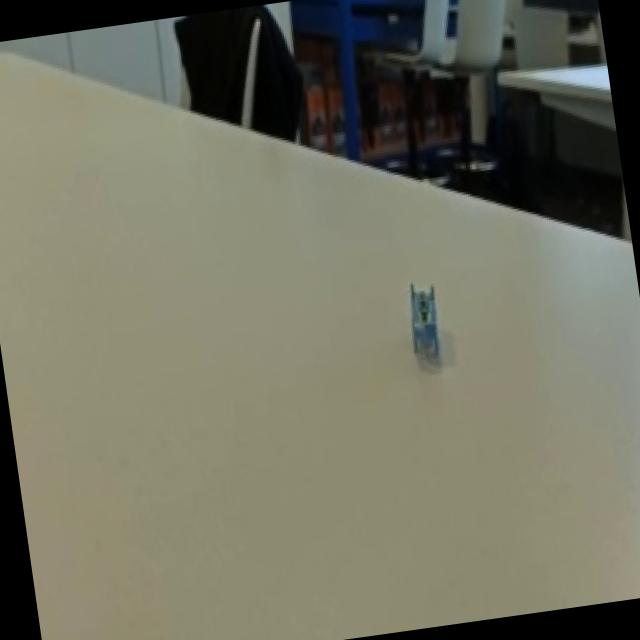3_NanoBug_Celeste: (374, 260, 458, 376)
